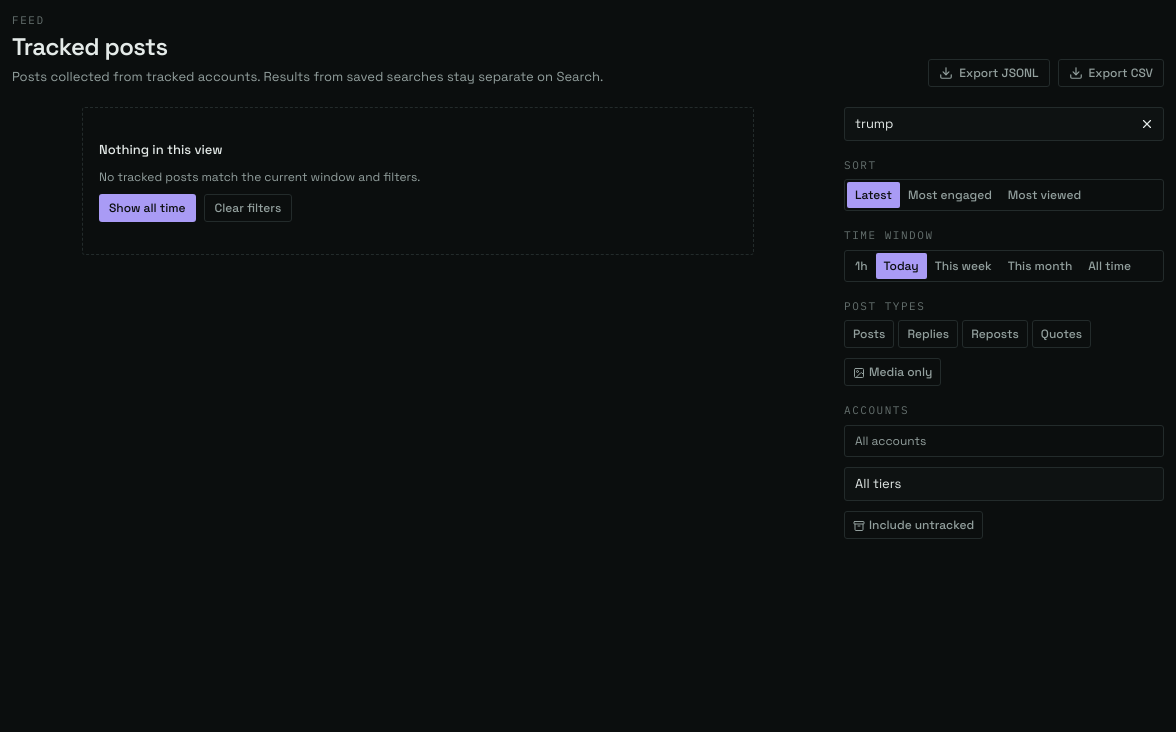
Test: Feed QA regressions › clears the query when the box is emptied
Click the button named "Clear search": x=1147, y=124 [1134,110,1160,136]
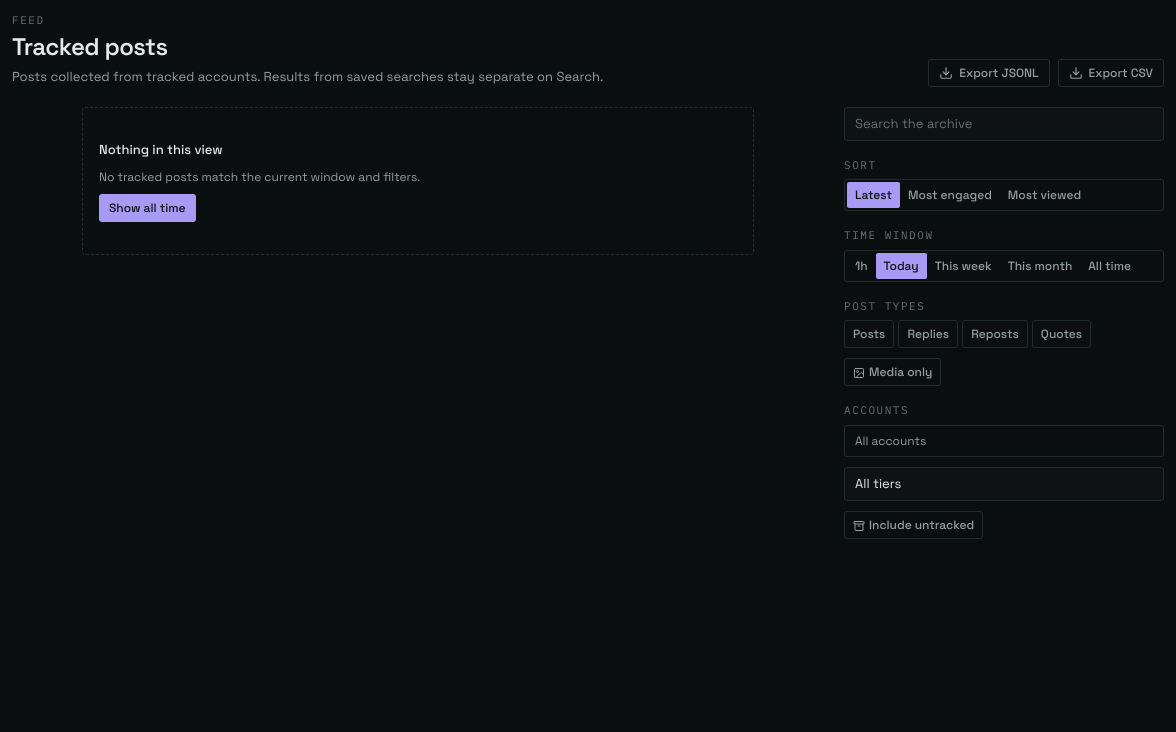
Check: the field named "Search archive" is empty, box [844,106,1164,140]
